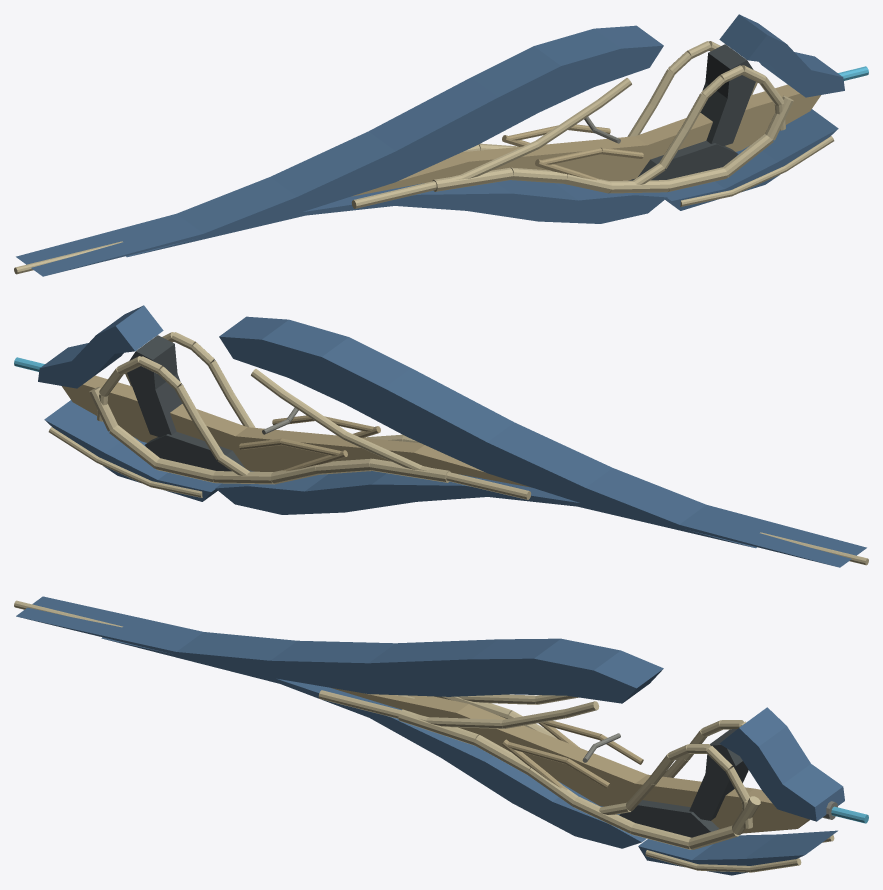
The model's file is ruch_blue_flight.glb.
3 views of the same model, one above another, from view 1: azimuth 30°, elevation 25°; view 2: azimuth 150°, elevation 25°; view 3: azimuth 330°, elevation 25° (orthographic).
Visible parts, largest first — view 1: upper_blade_0, spine_3, lower_blade_1, gold_frame_8, rear_fairing_6, aft_lower_7, cockpit_arch_9, seat_back_5, seat_base_4, structural_braces_10, rear_rail_11; view 2: upper_blade_0, spine_3, lower_blade_1, gold_frame_8, rear_fairing_6, aft_lower_7, cockpit_arch_9, seat_back_5, seat_base_4, structural_braces_10, rear_rail_11; view 3: upper_blade_0, spine_3, gold_frame_8, lower_blade_1, rear_fairing_6, aft_lower_7, cockpit_arch_9, seat_back_5, structural_braces_10, seat_base_4, rear_rail_11.
Part boxes in pixels (x1,y1,x2,y2): upper_blade_0: (16, 25, 663, 276); spine_3: (351, 84, 820, 196); lower_blade_1: (126, 180, 667, 257); gold_frame_8: (351, 78, 793, 208); rear_fairing_6: (719, 14, 844, 97); aft_lower_7: (661, 109, 838, 210); cockpit_arch_9: (627, 41, 785, 184); seat_back_5: (700, 44, 755, 146); seat_base_4: (628, 140, 737, 180); structural_braces_10: (502, 124, 643, 180); rear_rail_11: (680, 136, 834, 206); upper_blade_0: (219, 316, 866, 567); spine_3: (62, 375, 531, 487); lower_blade_1: (215, 471, 756, 548); gold_frame_8: (89, 369, 531, 499); rear_fairing_6: (38, 305, 163, 388); aft_lower_7: (44, 400, 221, 501); cockpit_arch_9: (97, 332, 255, 475); seat_back_5: (127, 335, 182, 437); seat_base_4: (145, 431, 254, 471); structural_braces_10: (239, 415, 380, 471); rear_rail_11: (48, 427, 202, 497); upper_blade_0: (16, 596, 663, 703); spine_3: (330, 687, 809, 833); gold_frame_8: (318, 690, 760, 849); lower_blade_1: (101, 637, 646, 848); rear_fairing_6: (719, 707, 844, 821); aft_lower_7: (638, 830, 837, 875); cockpit_arch_9: (599, 720, 752, 828); seat_back_5: (689, 729, 748, 820); structural_braces_10: (502, 720, 643, 790); seat_base_4: (619, 800, 718, 837); rear_rail_11: (645, 835, 834, 872).
Bounding box in the file's own units: 9.52 × 1.86 × 0.76.
